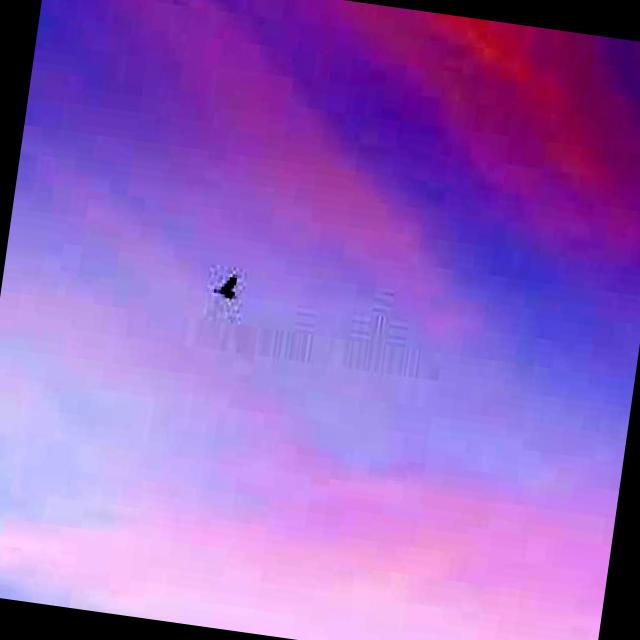bird: (212, 265, 246, 304)
